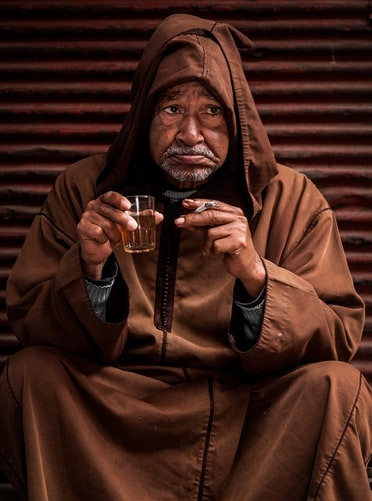whiskey: (118, 192, 157, 260)
